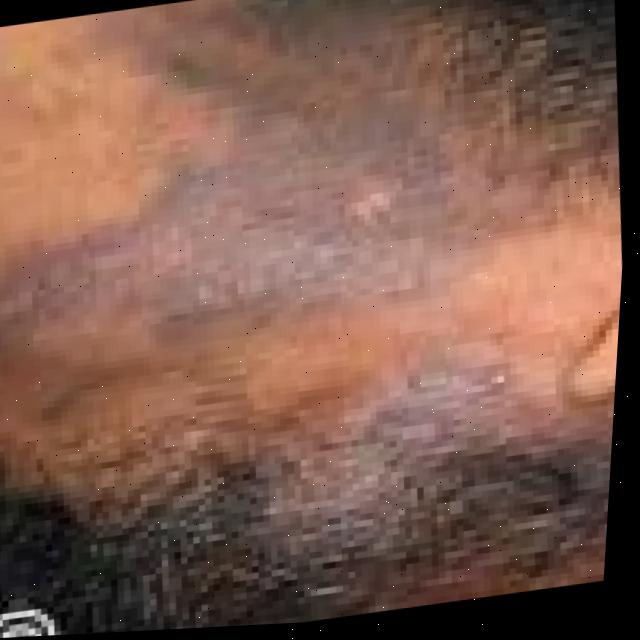Melasma: (20, 85, 457, 358), (261, 362, 596, 616), (168, 0, 390, 89)
